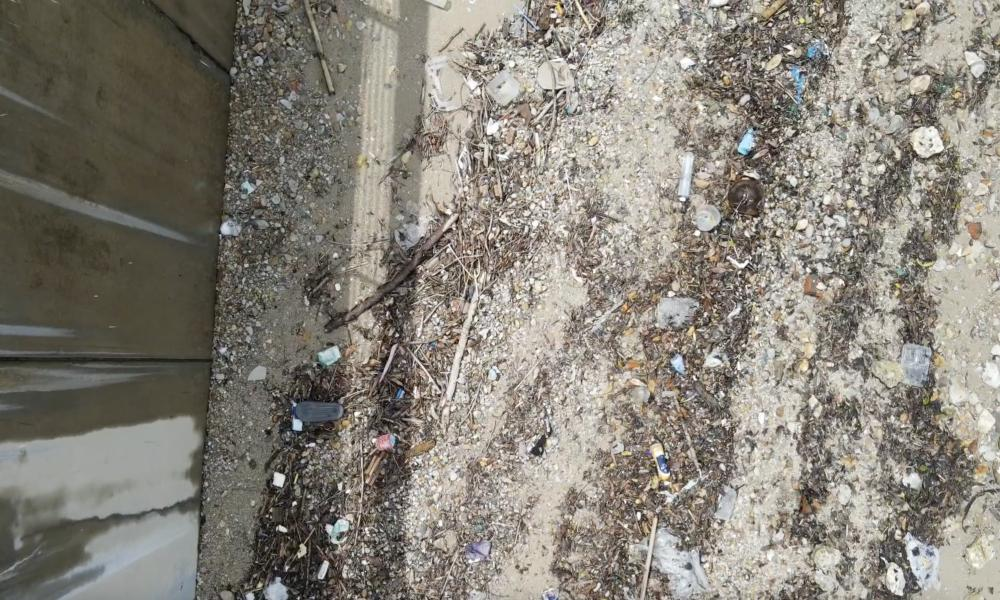plastic bottle: (647, 437, 672, 486), (679, 150, 694, 207)
